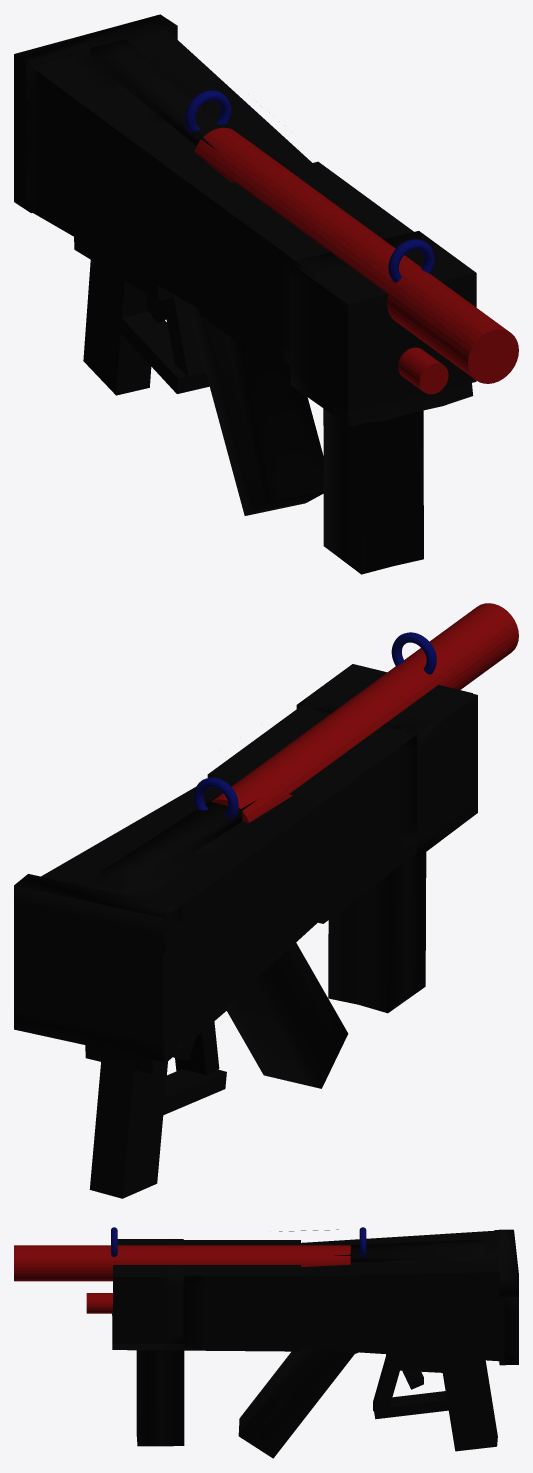
File: SMG.fbx
3 renders of one model, top to bottom at view 1: azimuth 30°, elevation 25°; view 2: azimuth 150°, elevation 25°; view 3: azimuth 270°, elevation 25°, orthographic. The views are drawn at different scales.
Visible parts, largest first — view 1: Cube, Cylinder.002, Cylinder.001, Torus, Torus.001; view 2: Cube, Cylinder.002, Torus, Torus.001; view 3: Cube, Cylinder.002, Cylinder.001.
Boxes of the visible parts, x1,y1,x2,y2 form: Cube: (14,14,476,574); Cylinder.002: (194,127,518,383); Cylinder.001: (398,347,448,394); Torus: (185,90,231,134); Torus.001: (388,239,434,282); Cube: (14,664,477,1198); Cylinder.002: (211,603,518,822); Torus: (193,777,238,819); Torus.001: (391,632,436,674); Cube: (112,1229,518,1458); Cylinder.002: (14,1245,350,1281); Cylinder.001: (86,1293,112,1313).
Bounding box in the file's own units: 83.61 × 196 × 394.
